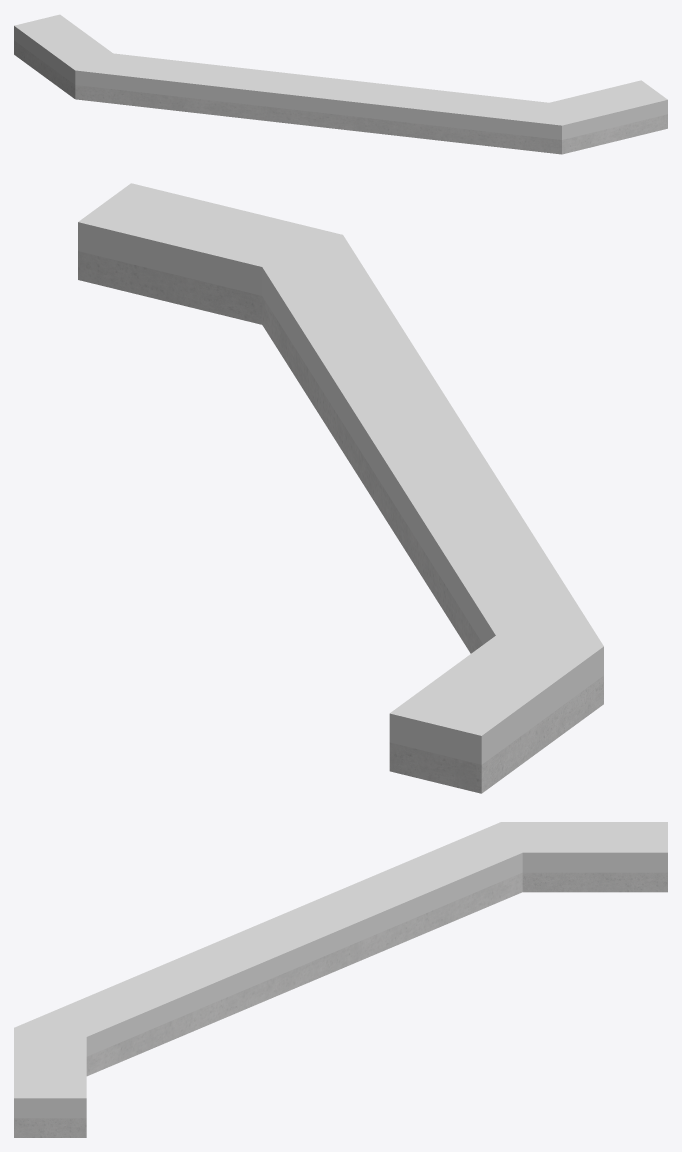
The model's file is MB_Molding_B_Angle_02.fbx.
3 views of the same model, one above another, from view 1: azimuth 30°, elevation 25°; view 2: azimuth 150°, elevation 25°; view 3: azimuth 270°, elevation 25° (orthographic). The views are drawn at different scales.
Visible parts, largest first — view 1: MB_Molding_Angle_02_B; view 2: MB_Molding_Angle_02_B; view 3: MB_Molding_Angle_02_B.
Part boxes in pixels (<box>): MB_Molding_Angle_02_B: <box>14,14,667,154</box>; MB_Molding_Angle_02_B: <box>78,183,603,793</box>; MB_Molding_Angle_02_B: <box>14,822,667,1137</box>.
Size of the model in its own units: 450 by 30 by 450.
